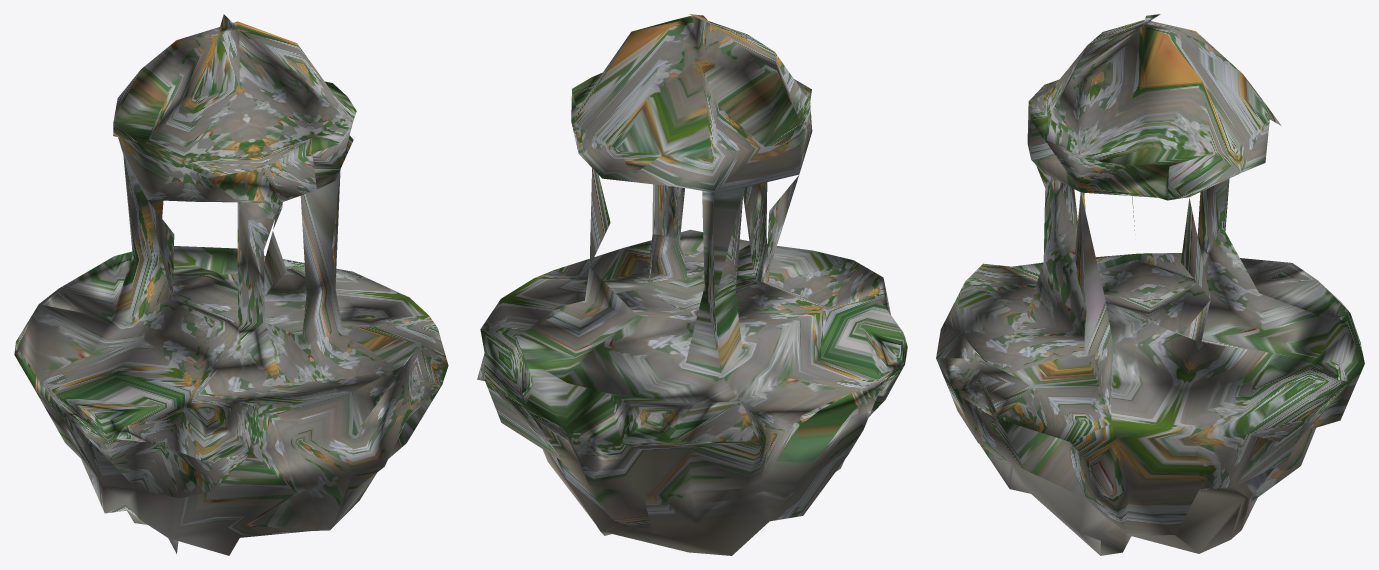
Rendered from cloud-sky-shrine-far-BSzbNDx0.glb.
3 views of the same model, side by side, from view 1: azimuth 30°, elevation 25°; view 2: azimuth 150°, elevation 25°; view 3: azimuth 270°, elevation 25° (orthographic).
Parts seen in each view (by area): view 1: tripo_node_3deebbb4-6377-4bb1-bdb3-6484b0dc2958; view 2: tripo_node_3deebbb4-6377-4bb1-bdb3-6484b0dc2958; view 3: tripo_node_3deebbb4-6377-4bb1-bdb3-6484b0dc2958.
Part boxes in pixels (bbox=[...]): tripo_node_3deebbb4-6377-4bb1-bdb3-6484b0dc2958: bbox=[14, 14, 448, 555]; tripo_node_3deebbb4-6377-4bb1-bdb3-6484b0dc2958: bbox=[477, 14, 907, 555]; tripo_node_3deebbb4-6377-4bb1-bdb3-6484b0dc2958: bbox=[936, 14, 1364, 555].
Size of the model in its own units: 0.7128 by 0.9599 by 0.7351.
1 material, 1 textured.
